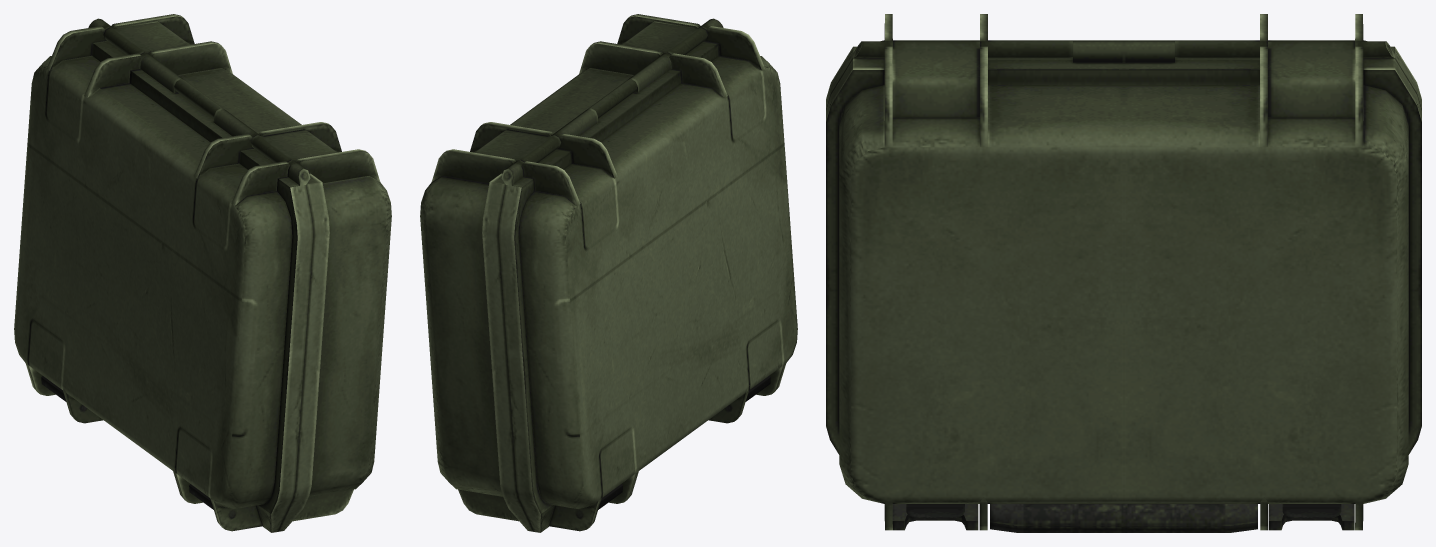
Rendered from PistolCase_Bag.fbx.
The picture shows the model from 3 angles, left to right: view 1: azimuth 30°, elevation 25°; view 2: azimuth 150°, elevation 25°; view 3: azimuth 270°, elevation 25°; orthographic projection. The views are drawn at different scales.
Visible parts, largest first — view 1: PistolCase; view 2: PistolCase; view 3: PistolCase.
Part boxes in pixels (<box>): PistolCase: <box>14,14,391,532</box>; PistolCase: <box>420,14,797,532</box>; PistolCase: <box>826,14,1421,532</box>.
Size of the model in its own units: 0.086 by 0.1782 by 0.2072.
